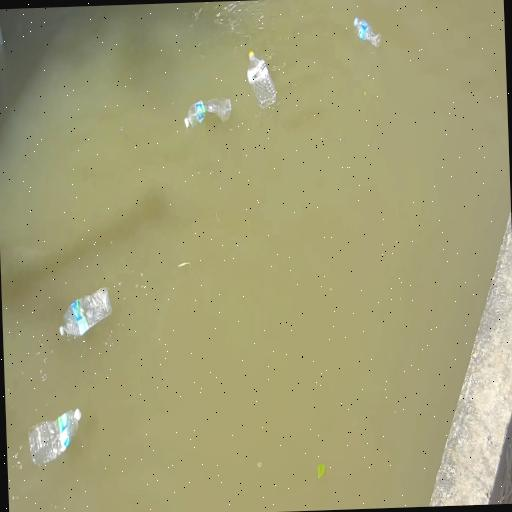plastic: (29, 409, 81, 465), (60, 287, 112, 338), (248, 52, 276, 107), (185, 98, 231, 128), (354, 18, 380, 47)
